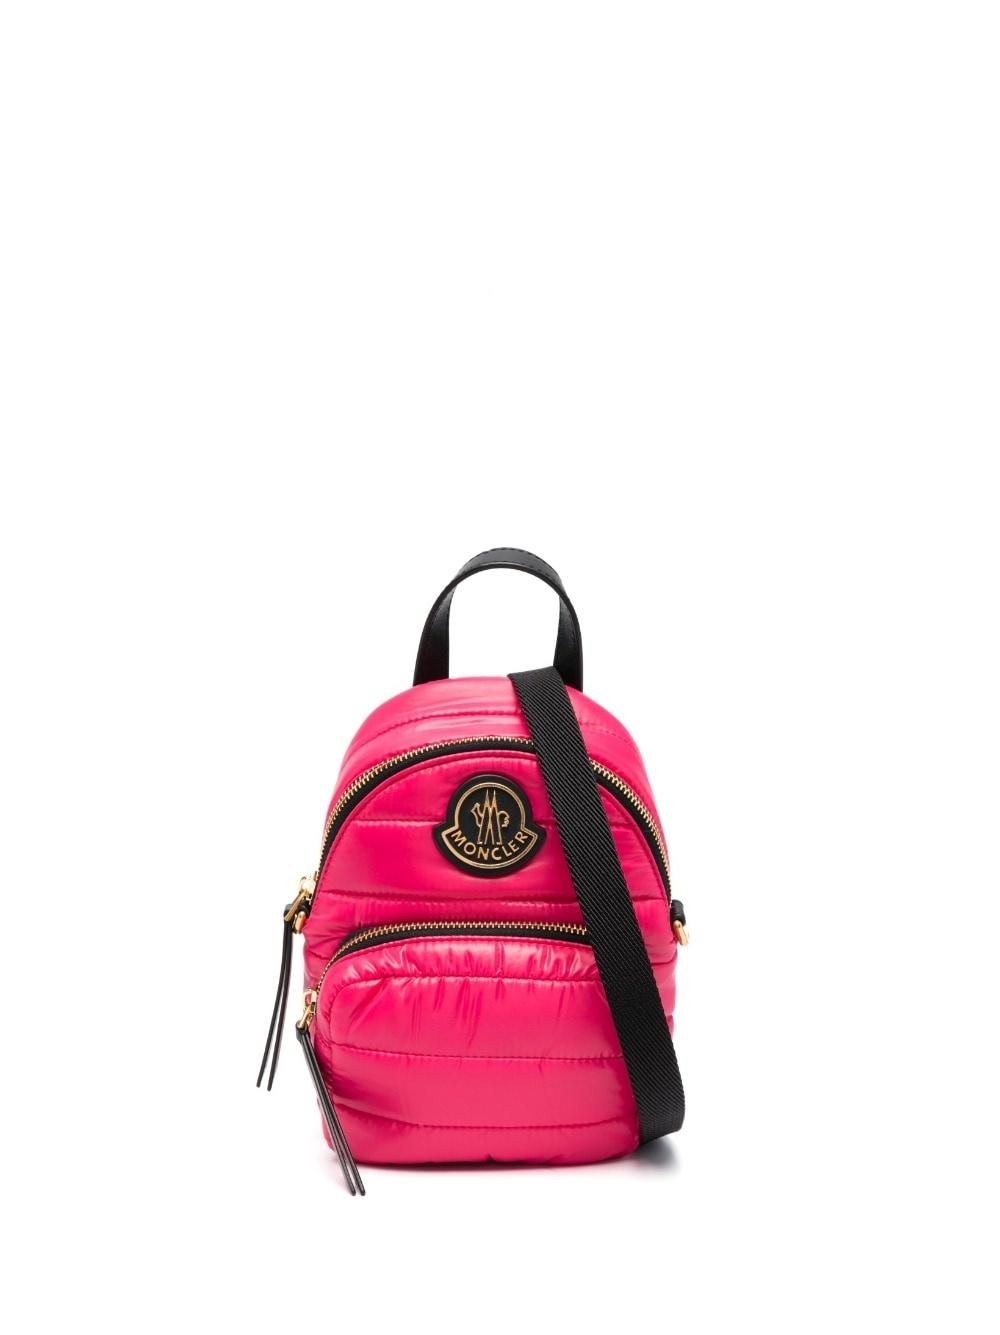MONCLER: (433, 772, 548, 877)
